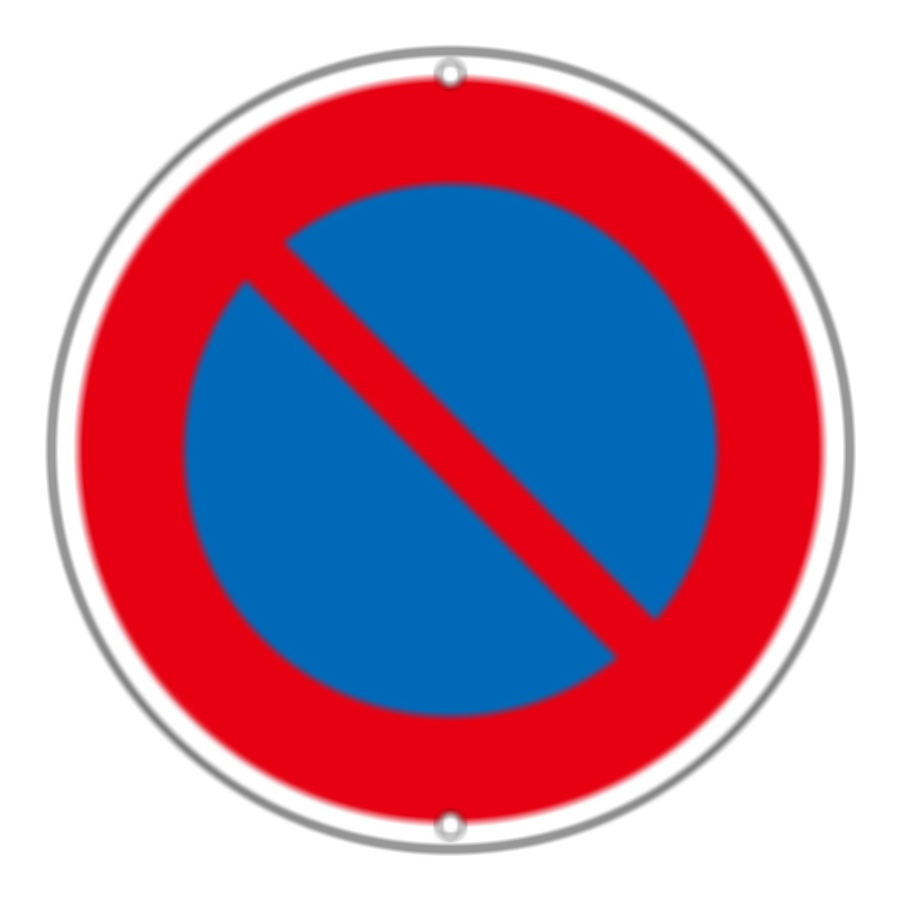Prohibition_sign: (37, 43, 853, 878)
